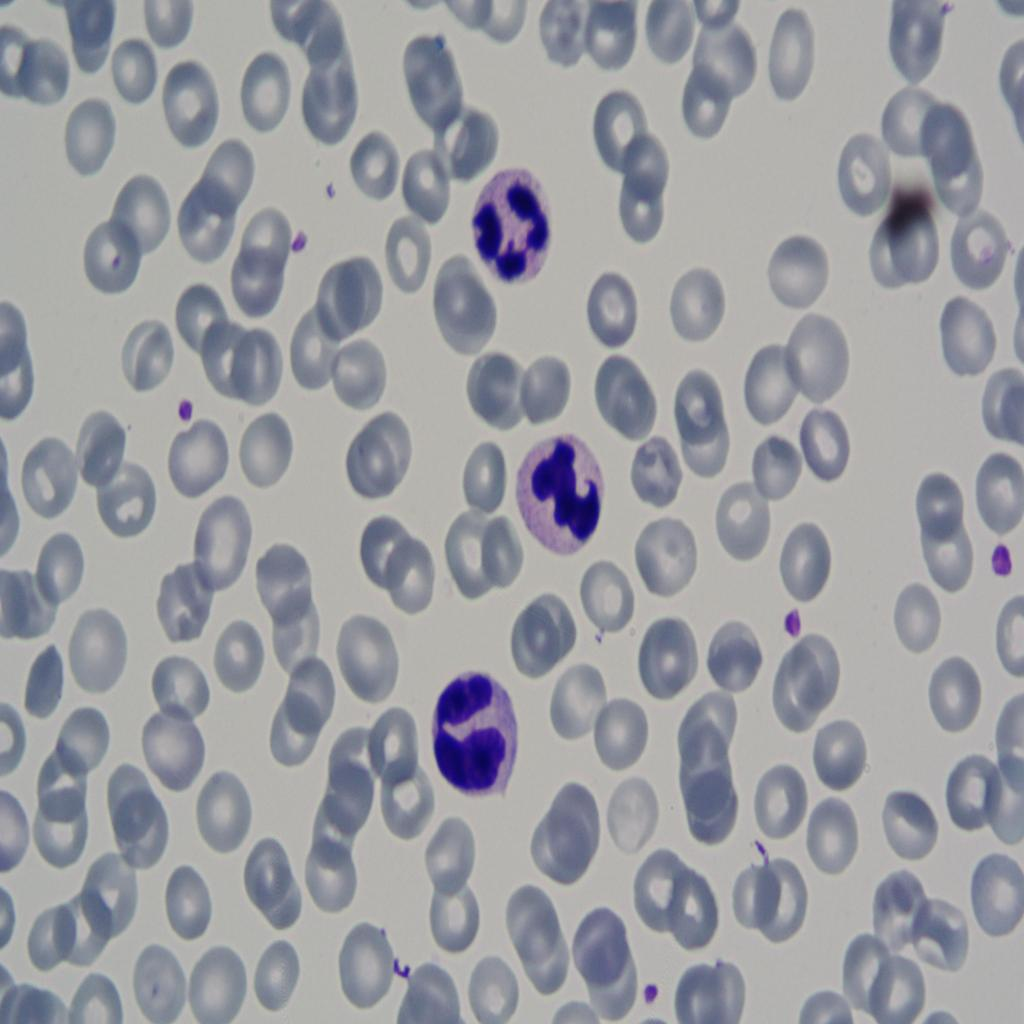Neutrofil: (500, 421, 612, 575), (461, 154, 559, 311), (428, 649, 520, 804)
Platelet: (971, 524, 1019, 586), (780, 597, 816, 670), (633, 959, 666, 1022), (173, 382, 204, 428), (286, 227, 314, 267)
